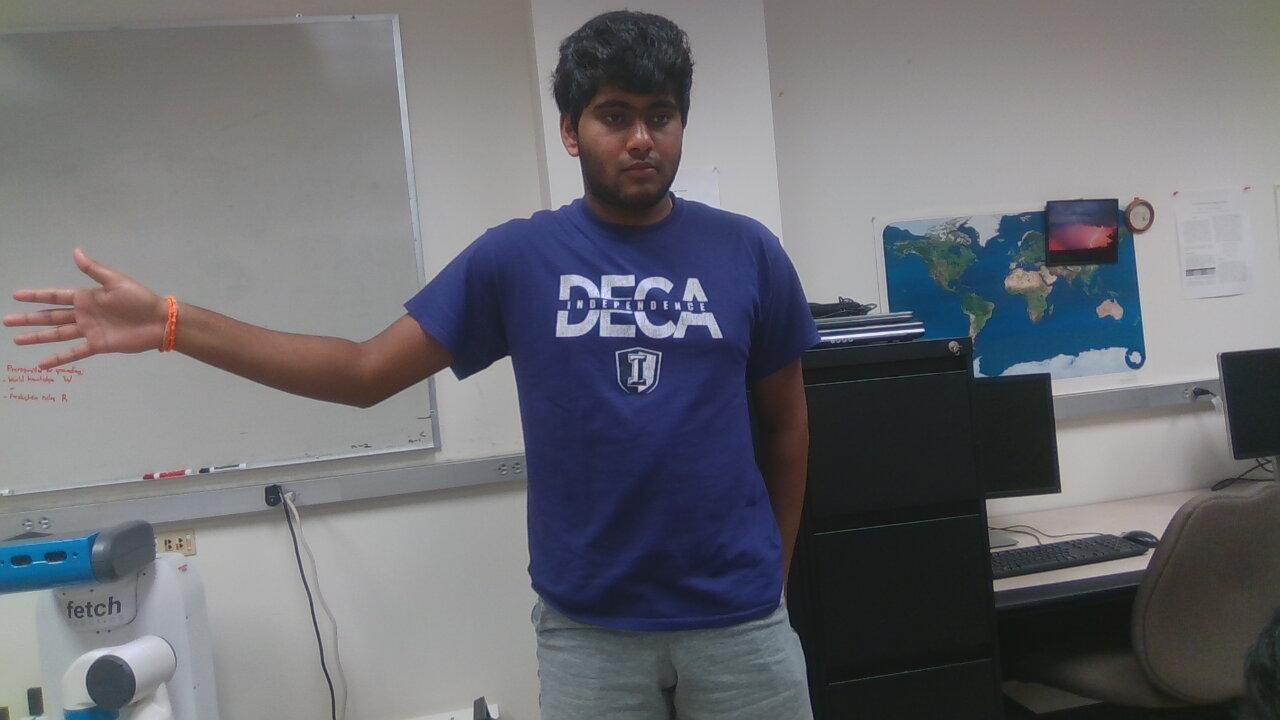hands: (1, 247, 187, 380)
